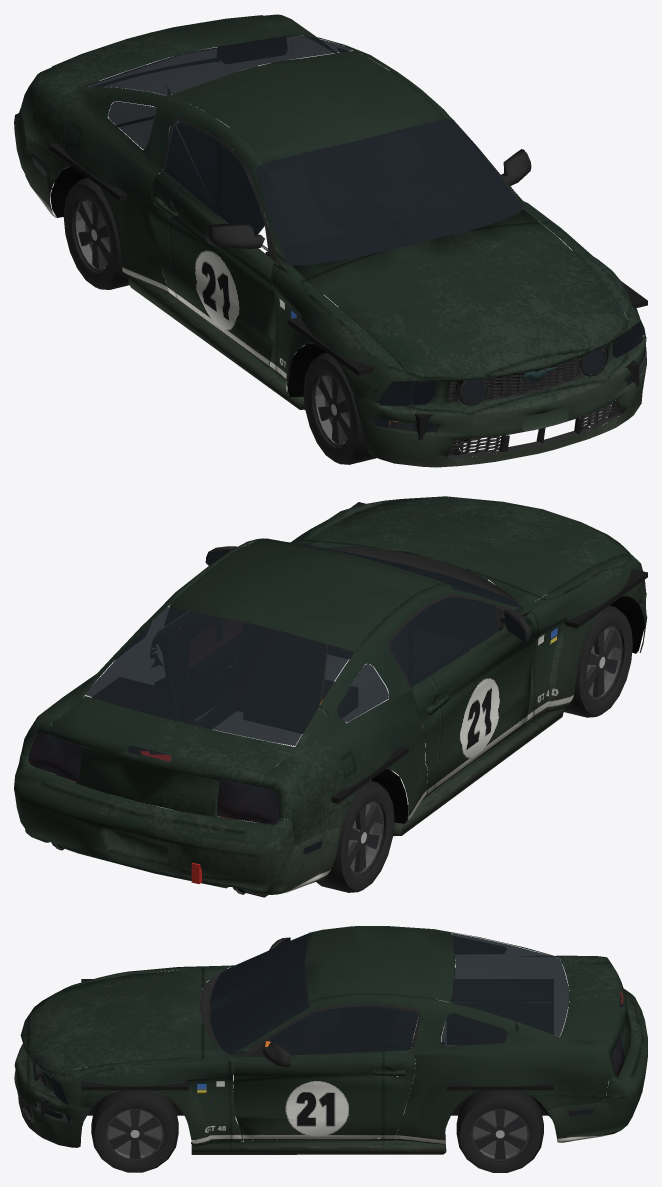
3 renders of one model, top to bottom at view 1: azimuth 30°, elevation 25°; view 2: azimuth 150°, elevation 25°; view 3: azimuth 270°, elevation 25°, orthographic. The views are drawn at different scales.
Visible parts, largest first — view 1: body, wheel_fr, wheel_rr; view 2: body, wheel_rr, wheel_fr; view 3: body, wheel_rl, wheel_fl.
Boxes of the visible parts, x1,y1,x2,y2 form: body: (14, 14, 647, 467); wheel_fr: (303, 353, 392, 464); wheel_rr: (63, 178, 129, 289); body: (14, 496, 647, 897); wheel_rr: (316, 780, 394, 892); wheel_fr: (564, 605, 632, 717); body: (14, 926, 647, 1154); wheel_rl: (456, 1090, 543, 1172); wheel_fl: (91, 1090, 178, 1172).
Size of the model in its own units: 2.11 by 1.37 by 4.72.
Materials: 2 (1 with a texture image).
